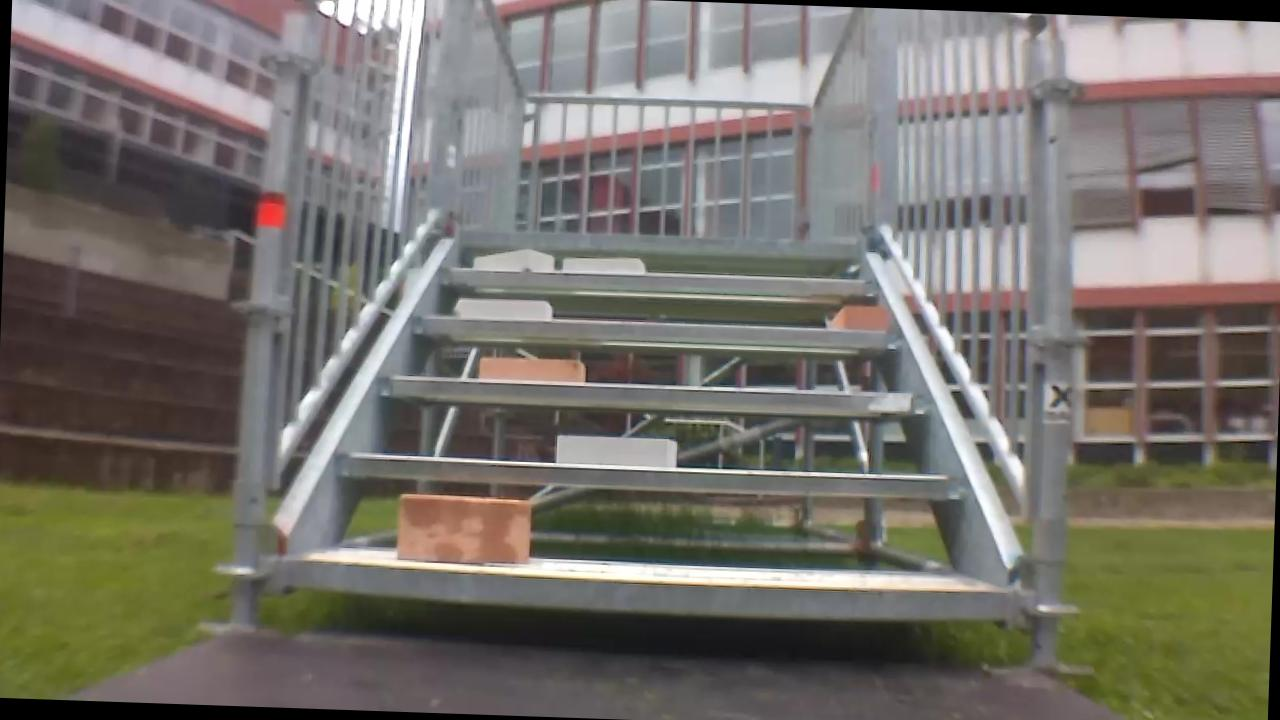brick: (395, 493, 529, 564), (555, 433, 676, 467), (480, 358, 584, 383), (459, 298, 550, 319), (473, 248, 552, 271), (564, 255, 645, 274), (832, 304, 887, 330)
edge: (285, 559, 1009, 626), (336, 452, 961, 500), (381, 375, 933, 418), (409, 314, 900, 350), (437, 264, 876, 299), (460, 228, 856, 258)
steps: (280, 217, 1024, 635)
